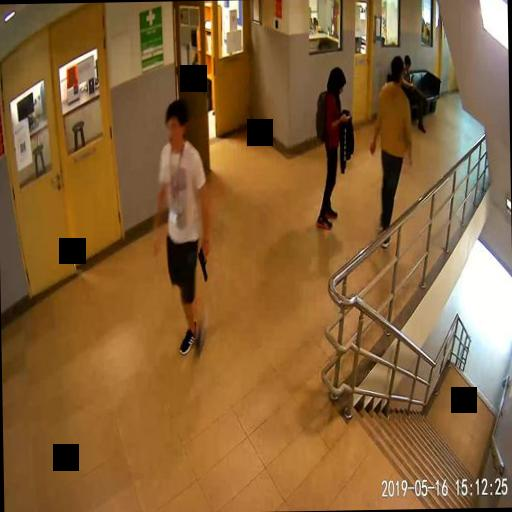Handgun: (196, 244, 208, 280)
